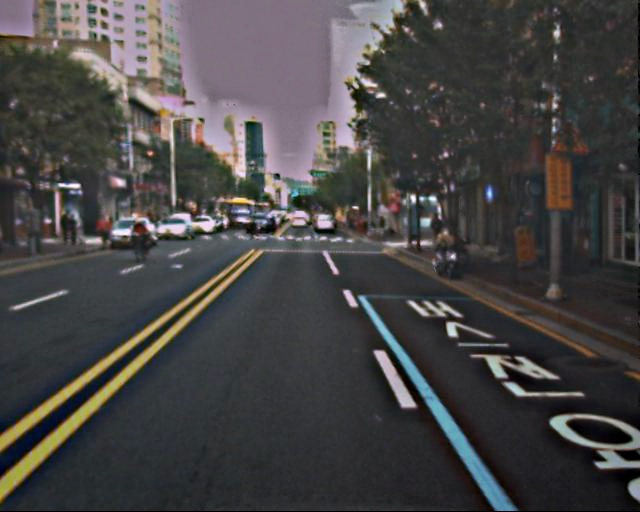person: (59, 209, 81, 247), (427, 210, 445, 255)
